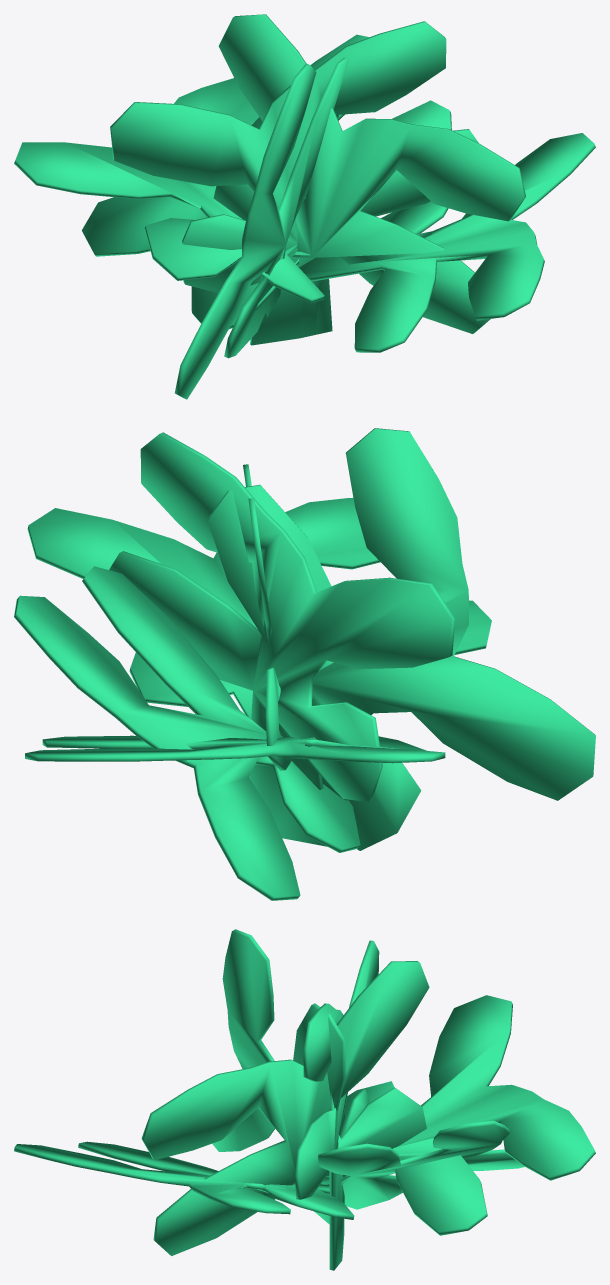
File: algaschao.fbx
3 renders of one model, top to bottom at view 1: azimuth 30°, elevation 25°; view 2: azimuth 150°, elevation 25°; view 3: azimuth 270°, elevation 25°, orthographic. The views are drawn at different scales.
Parts seen in each view (by area): view 1: Plane.007; view 2: Plane.007; view 3: Plane.007.
Boxes of the visible parts, x1=… form: Plane.007: x1=14, y1=14, x2=595, y2=399; Plane.007: x1=14, y1=428, x2=595, y2=900; Plane.007: x1=14, y1=929, x2=595, y2=1270.
Size of the model in its own units: 277 by 185 by 318.
